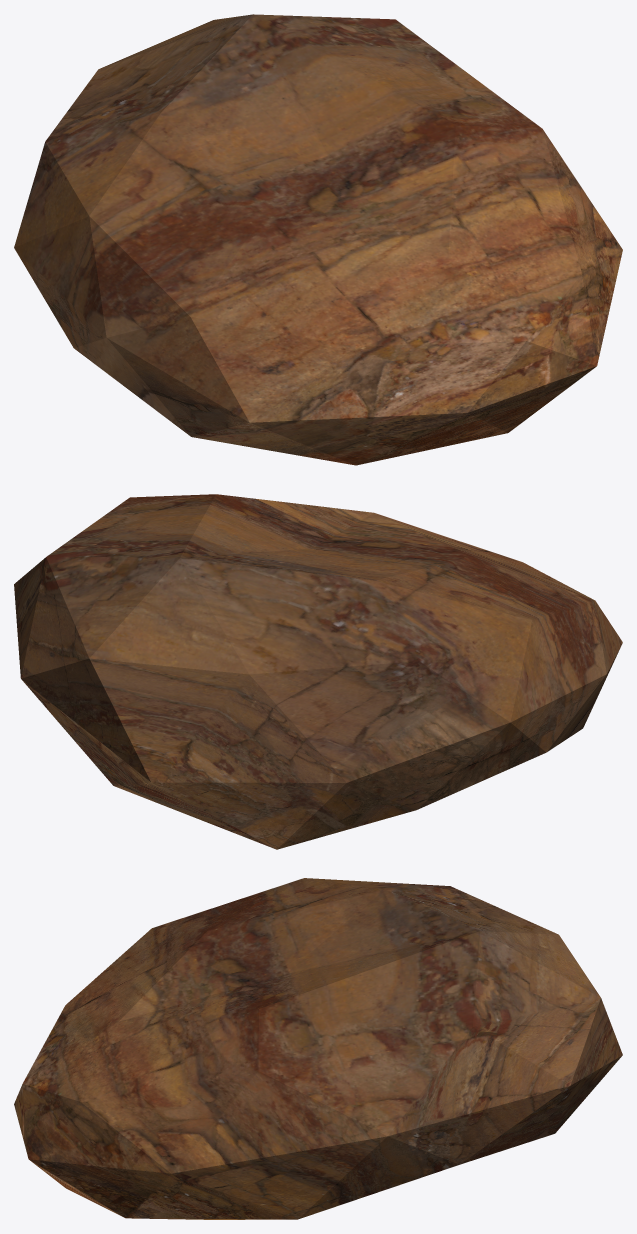
The model's file is rock.fbx.
3 renders of one model, top to bottom at view 1: azimuth 30°, elevation 25°; view 2: azimuth 150°, elevation 25°; view 3: azimuth 270°, elevation 25°, orthographic. The views are drawn at different scales.
Parts seen in each view (by area): view 1: Icosphere; view 2: Icosphere; view 3: Icosphere.
Part boxes in pixels (bbox=[...]): Icosphere: bbox=[14, 14, 622, 465]; Icosphere: bbox=[14, 494, 622, 849]; Icosphere: bbox=[14, 878, 622, 1219].
Size of the model in its own units: 193 by 104 by 217.
